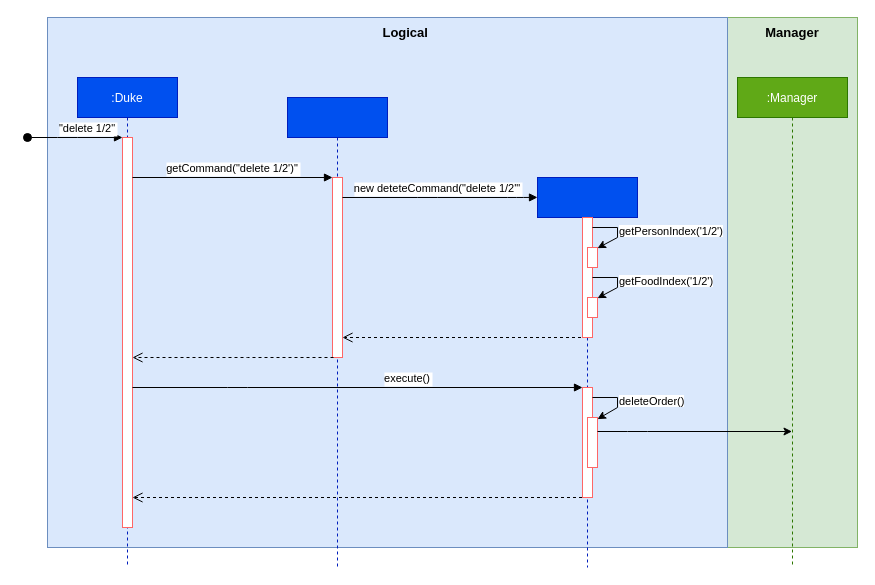
Image size: 875x585. Some labels were removed from this diagram. Each missing label, with the centre of its shape:
":DeleteCommand" belongs at [587,372].
":Parser" belongs at [337,332].
